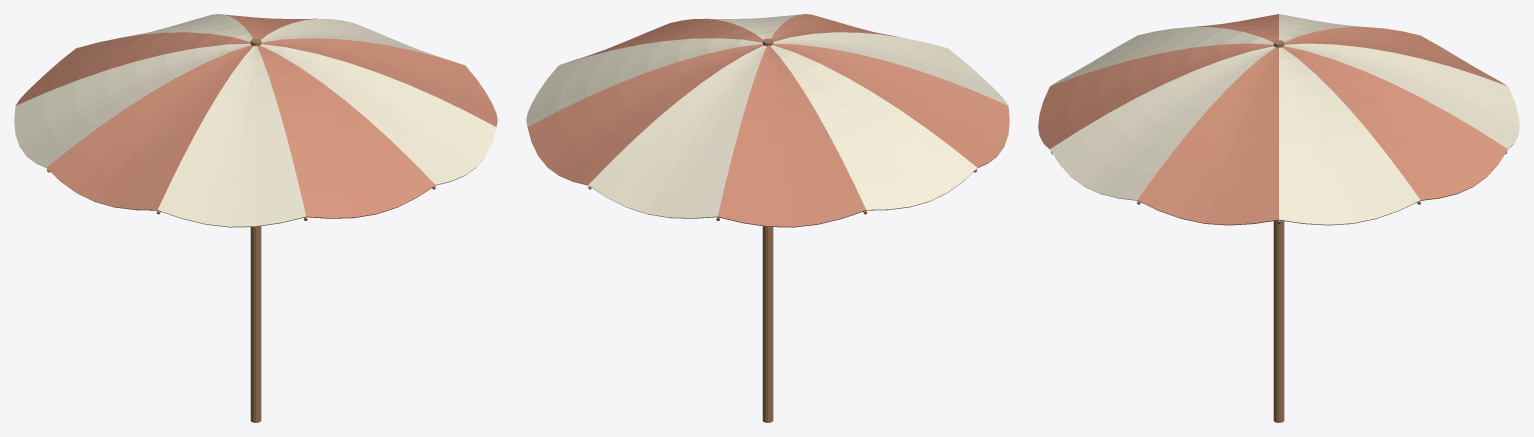
File: beach_parasol.glb
3 views of the same model, side by side, from view 1: azimuth 30°, elevation 25°; view 2: azimuth 150°, elevation 25°; view 3: azimuth 270°, elevation 25° (orthographic).
Parts seen in each view (by area): view 1: Canopy_gore_06, Canopy_gore_07, Canopy_gore_05, Canopy_gore_08, Canopy_gore_04, Canopy_gore_09, Canopy_gore_03, Parasol_pole, Canopy_gore_00, Canopy_gore_02, Canopy_gore_01; view 2: Canopy_gore_03, Canopy_gore_02, Canopy_gore_04, Canopy_gore_01, Canopy_gore_05, Canopy_gore_00, Canopy_gore_06, Parasol_pole, Canopy_gore_09, Canopy_gore_07, Canopy_gore_08; view 3: Canopy_gore_00, Canopy_gore_09, Canopy_gore_01, Canopy_gore_08, Canopy_gore_02, Canopy_gore_07, Canopy_gore_03, Canopy_gore_06, Parasol_pole, Canopy_gore_05, Canopy_gore_04.
Part boxes in pixels (box(x1,y1,x2,y2)): Canopy_gore_06: box(157, 46, 306, 227); Canopy_gore_07: box(257, 45, 435, 218); Canopy_gore_05: box(46, 45, 253, 210); Canopy_gore_08: box(260, 44, 496, 185); Canopy_gore_04: box(14, 43, 250, 168); Canopy_gore_09: box(261, 38, 497, 126); Canopy_gore_03: box(16, 32, 250, 105); Parasol_pole: box(250, 38, 261, 422); Canopy_gore_00: box(261, 18, 461, 64); Canopy_gore_02: box(124, 14, 252, 41); Canopy_gore_01: box(223, 14, 316, 39); Canopy_gore_03: box(717, 46, 866, 227); Canopy_gore_02: box(588, 45, 766, 218); Canopy_gore_04: box(770, 45, 977, 210); Canopy_gore_01: box(527, 44, 763, 185); Canopy_gore_05: box(773, 43, 1009, 168); Canopy_gore_00: box(526, 38, 762, 126); Canopy_gore_06: box(773, 32, 1007, 105); Parasol_pole: box(762, 38, 773, 422); Canopy_gore_09: box(562, 18, 762, 64); Canopy_gore_07: box(771, 14, 899, 41); Canopy_gore_08: box(707, 14, 798, 39); Canopy_gore_00: box(1279, 47, 1420, 225); Canopy_gore_09: box(1137, 47, 1278, 225); Canopy_gore_01: box(1282, 46, 1507, 200); Canopy_gore_08: box(1050, 46, 1275, 200); Canopy_gore_02: box(1284, 43, 1519, 149); Canopy_gore_07: box(1038, 43, 1273, 149); Canopy_gore_03: box(1284, 27, 1506, 85); Canopy_gore_06: box(1051, 27, 1273, 85); Parasol_pole: box(1273, 40, 1284, 422); Canopy_gore_05: box(1185, 14, 1278, 42); Canopy_gore_04: box(1279, 14, 1363, 42).
Bounding box in the file's own units: 3.3 × 2.86 × 3.3.
